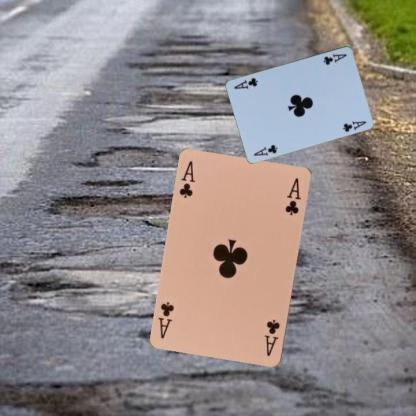Ac: (262, 316, 281, 358), (177, 158, 196, 200), (320, 51, 348, 66), (251, 142, 279, 156)
